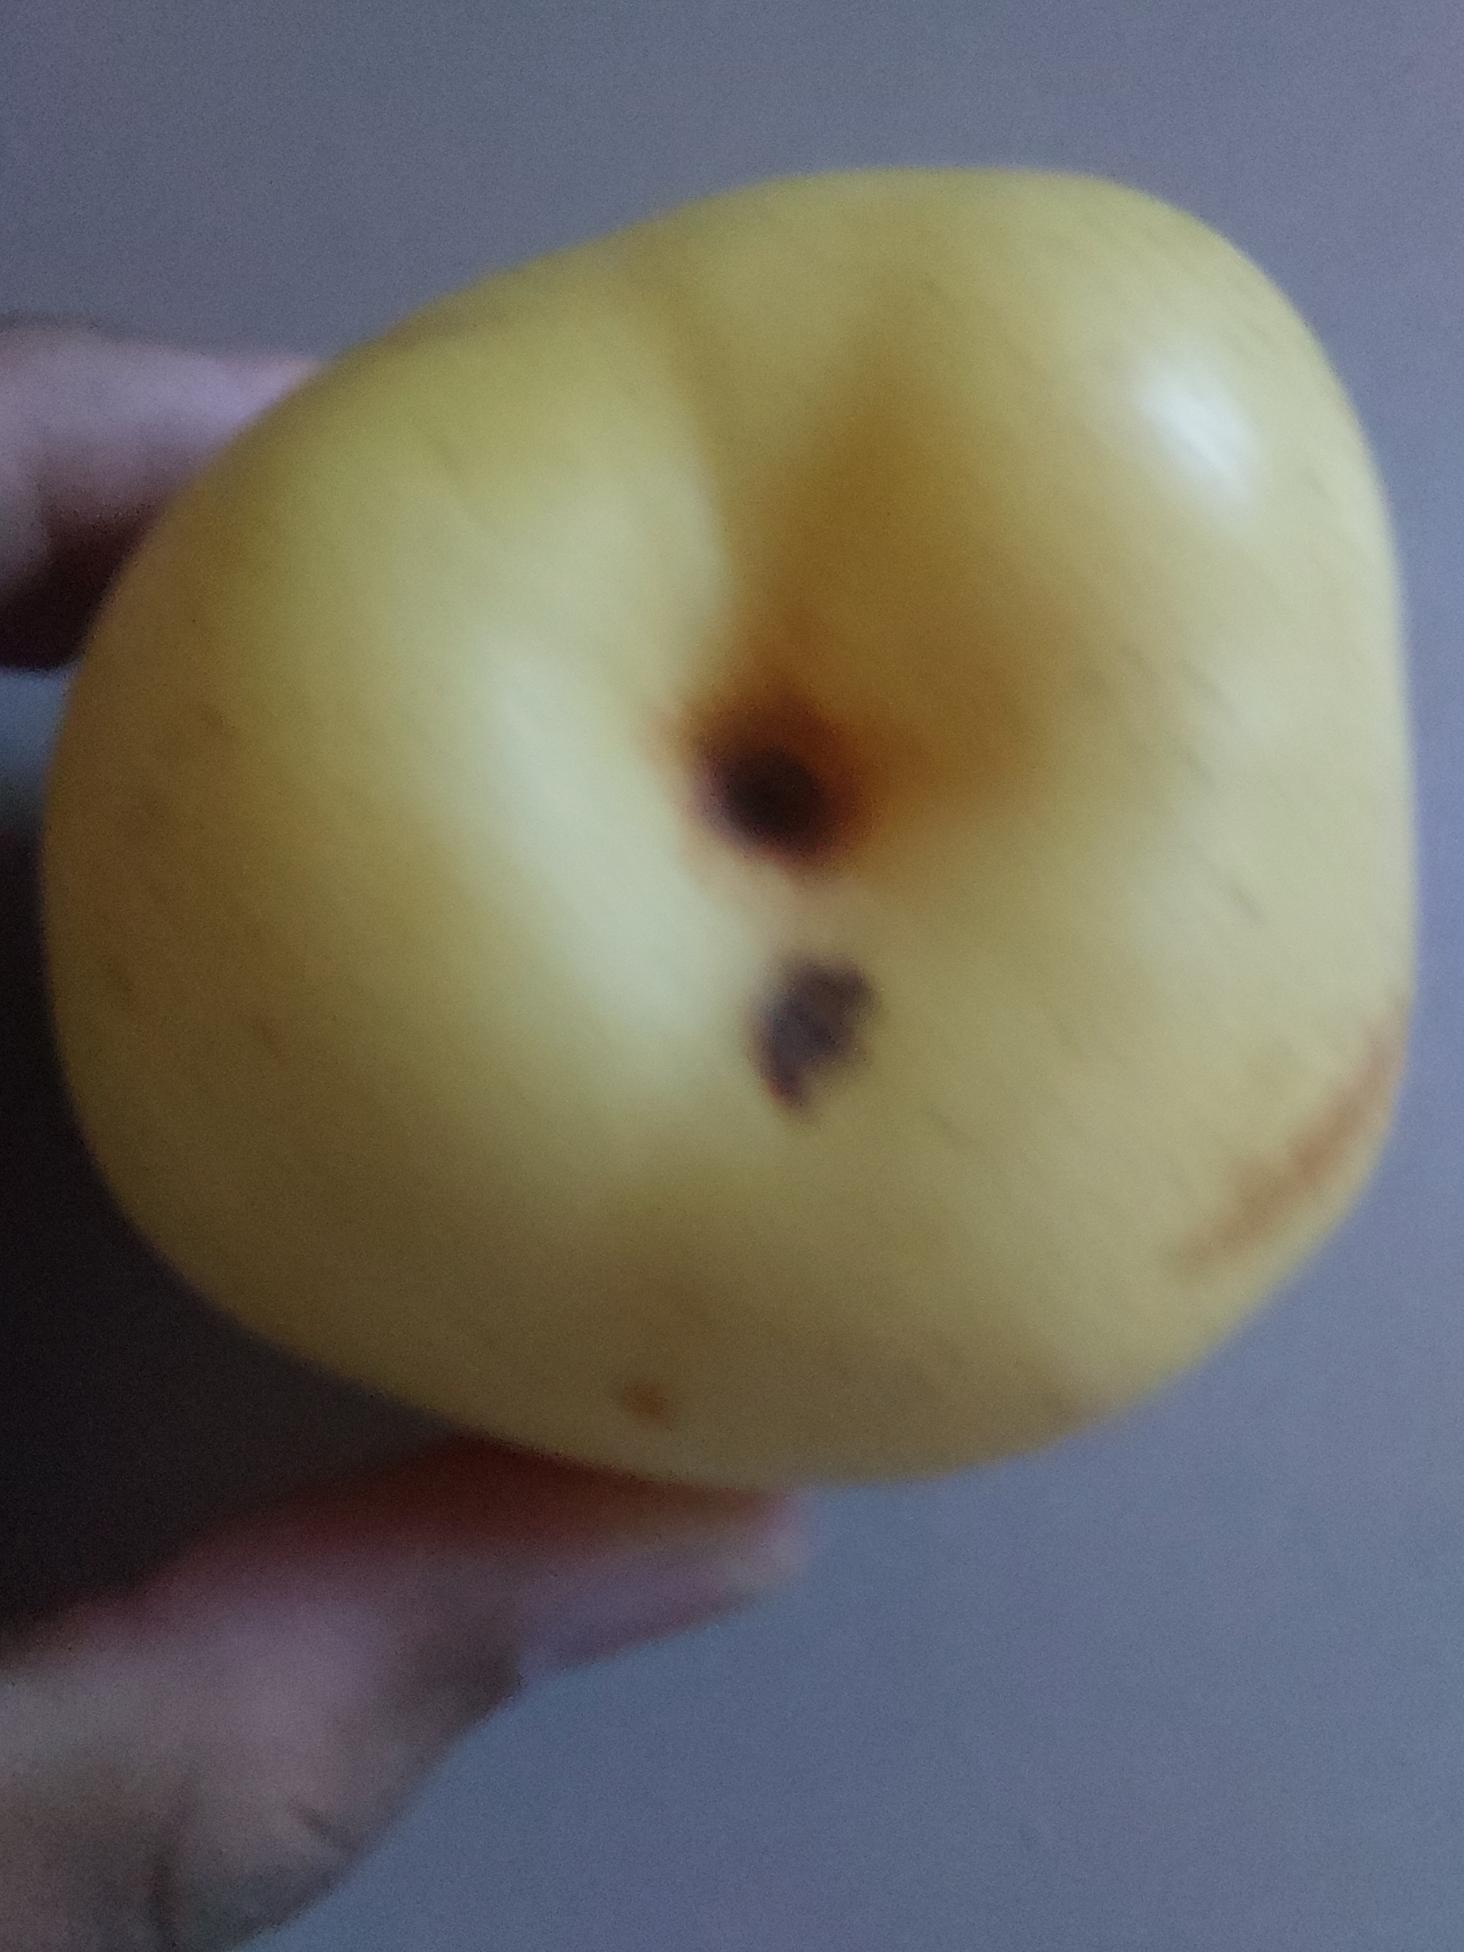Good Pear: (40, 163, 1436, 1520)
